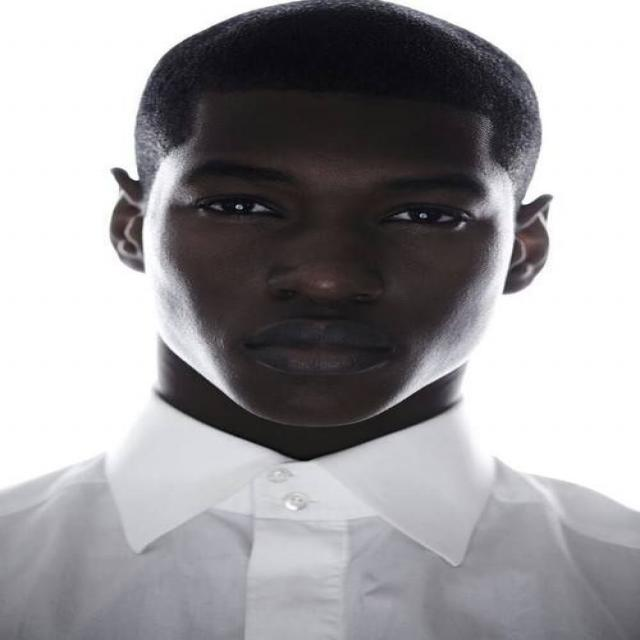earlobe: (119, 247, 148, 274), (503, 269, 534, 294)
eye: (198, 196, 278, 217), (382, 205, 464, 225)
nose: (272, 288, 380, 324)
wholeear: (503, 194, 554, 294), (104, 167, 147, 274)
